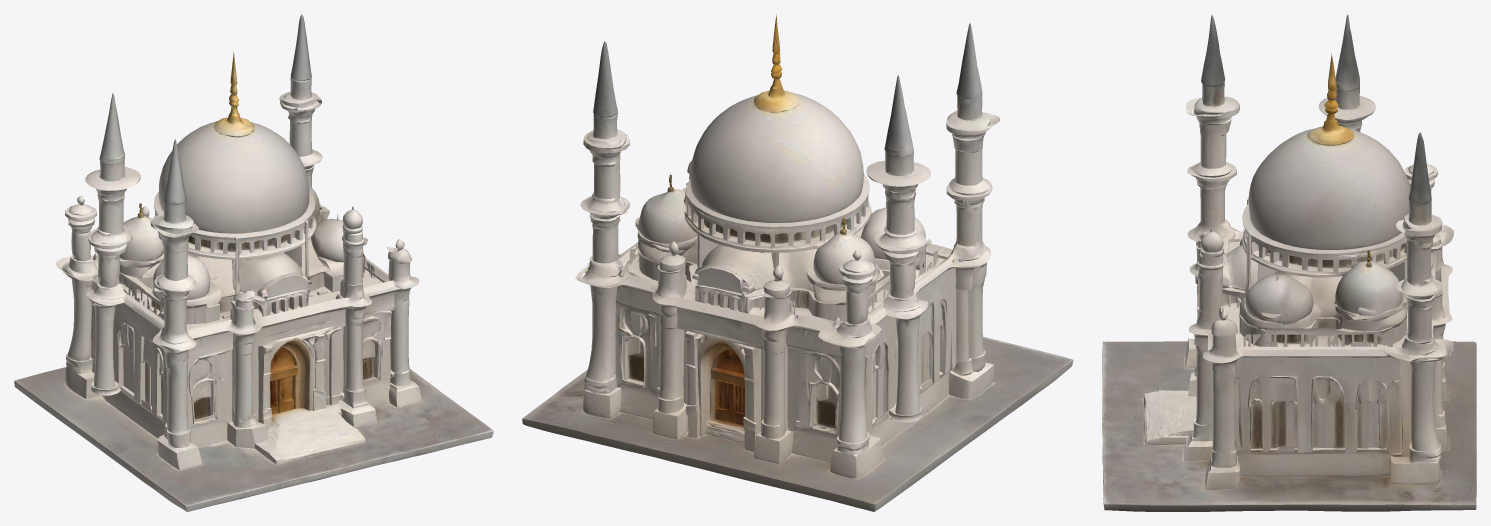
File: base_basic_pbr.glb
The picture shows the model from 3 angles, left to right: view 1: azimuth 30°, elevation 25°; view 2: azimuth 150°, elevation 25°; view 3: azimuth 270°, elevation 25°; orthographic projection. The views are drawn at different scales.
Parts seen in each view (by area): view 1: model; view 2: model; view 3: model.
Boxes of the visible parts, x1,y1,x2,y2 form: model: [14, 14, 493, 511]; model: [522, 14, 1073, 511]; model: [1102, 14, 1476, 511].
Bounding box in the file's own units: 1.73 × 1.87 × 1.68.
Materials: 1 (1 with a texture image).
